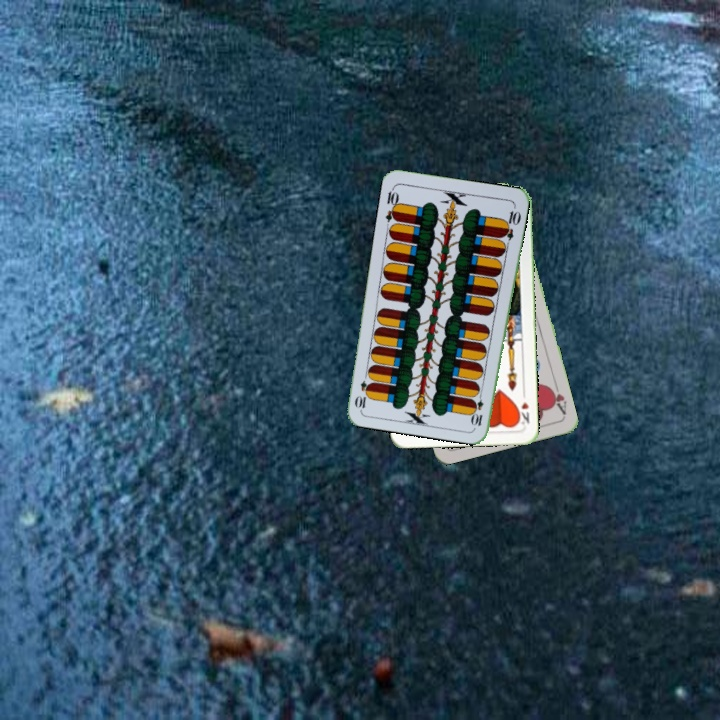E10: (381, 183, 402, 224), (469, 388, 486, 428)
HA: (545, 378, 569, 418)
HK: (513, 388, 532, 427)
